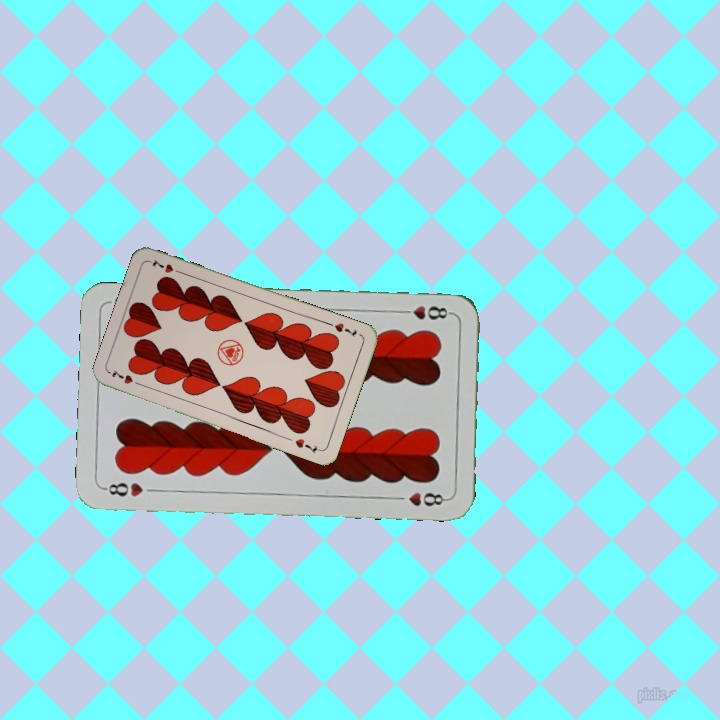H7: (108, 366, 145, 388), (324, 319, 359, 340)
H8: (395, 302, 454, 322), (100, 478, 146, 499)
